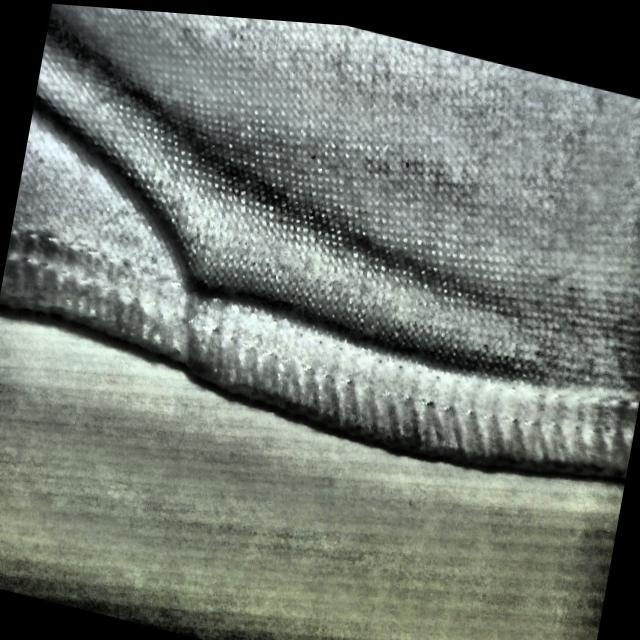seam: (57, 99, 405, 434)
